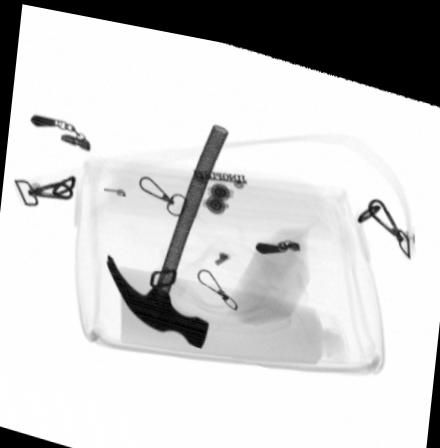Hammer: (105, 115, 229, 341)
